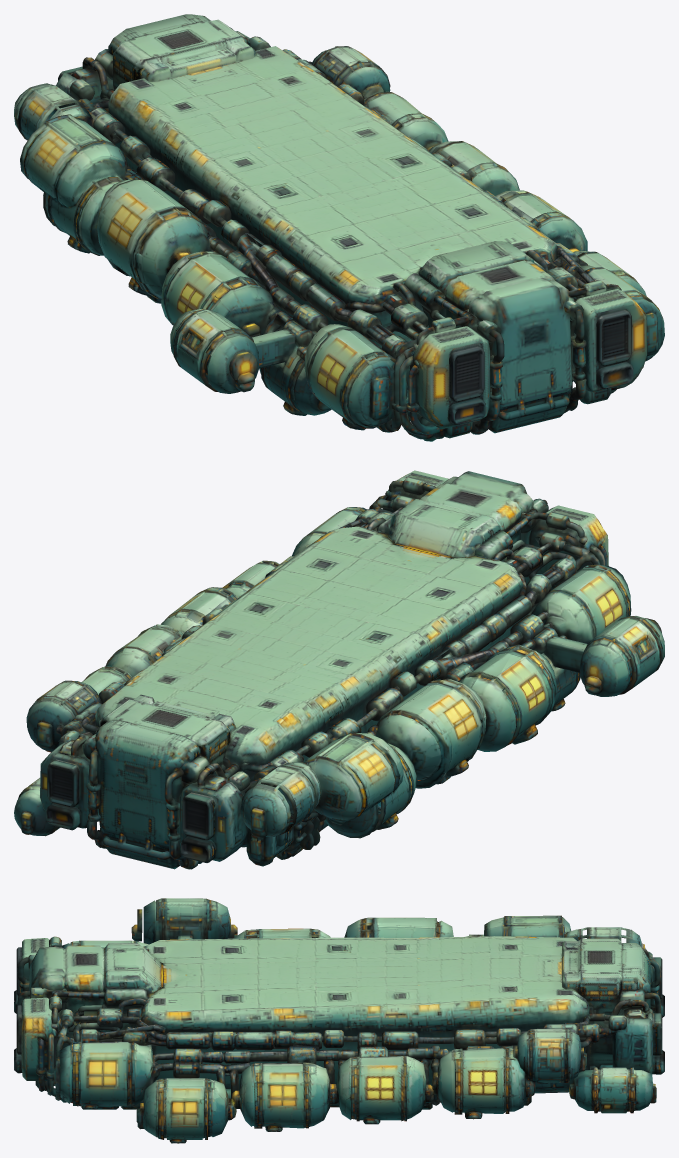
The model's file is ModelSpaceStation01.fbx.
3 renders of one model, top to bottom at view 1: azimuth 30°, elevation 25°; view 2: azimuth 150°, elevation 25°; view 3: azimuth 270°, elevation 25°, orthographic. The views are drawn at different scales.
Parts seen in each view (by area): view 1: e4be4941_99a0_46b4_b2c8_59e4d82760fb; view 2: e4be4941_99a0_46b4_b2c8_59e4d82760fb; view 3: e4be4941_99a0_46b4_b2c8_59e4d82760fb.
Part boxes in pixels (<box>): e4be4941_99a0_46b4_b2c8_59e4d82760fb: <box>14,14,664,441</box>; e4be4941_99a0_46b4_b2c8_59e4d82760fb: <box>14,470,664,869</box>; e4be4941_99a0_46b4_b2c8_59e4d82760fb: <box>14,898,664,1143</box>.
Bounding box in the file's own units: 0.6362 × 0.2036 × 0.9995.
1 material, 1 textured.
